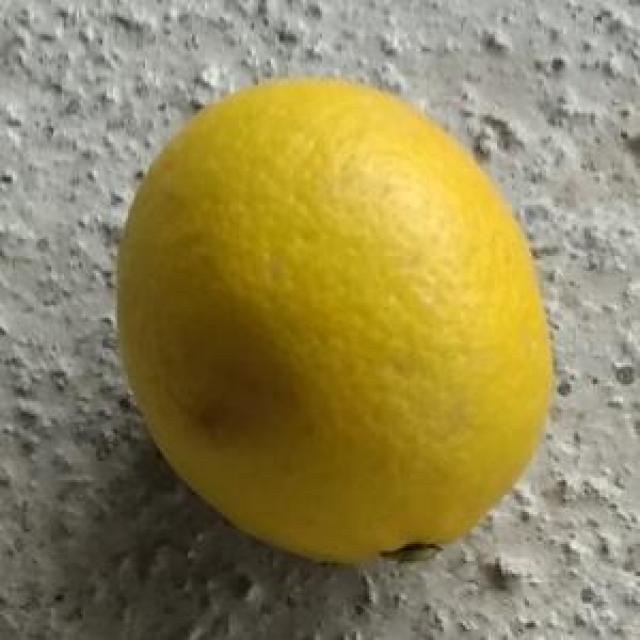lemon: (115, 73, 557, 565)
